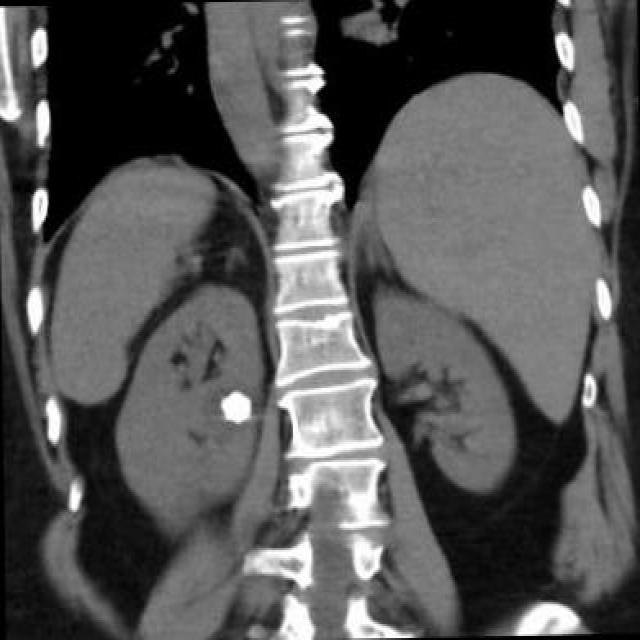Tas_Var: (217, 386, 253, 432)
